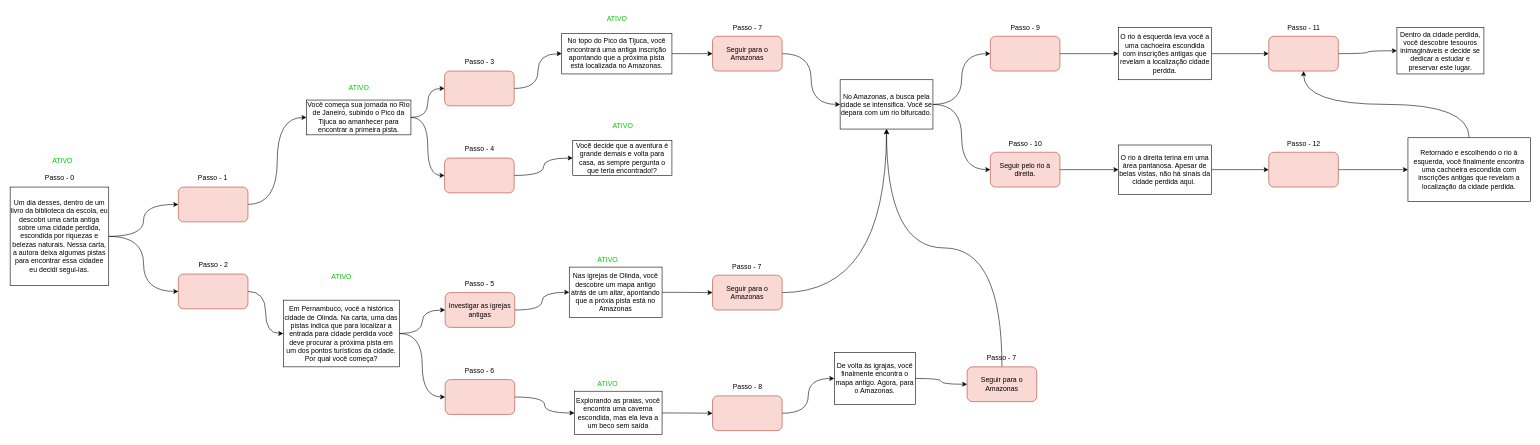
The diagram is 1540 pixels wide and 445 high, and some of its shapes have lost their labels. The shapes that lost their labels are listed below. From the top down, each one's box as (x1, y1, x2, y2) in pixels, then its label:
(990, 36, 1060, 71): Seguir pelo rio à esquerda.
(1268, 36, 1338, 71): Explorar a cidade perdida
(444, 70, 514, 106): Procurar pista no topo do pico.
(444, 157, 514, 193): Desistir e vltar para casa.
(1268, 152, 1338, 187): Retornar e tentar o outro rio.
(178, 186, 248, 222): Rio de Janeiro
(178, 273, 248, 309): Pernambuco
(445, 379, 515, 414): Explorar as praias próximas.
(712, 395, 782, 431): Voltar e explorar as igrejas
